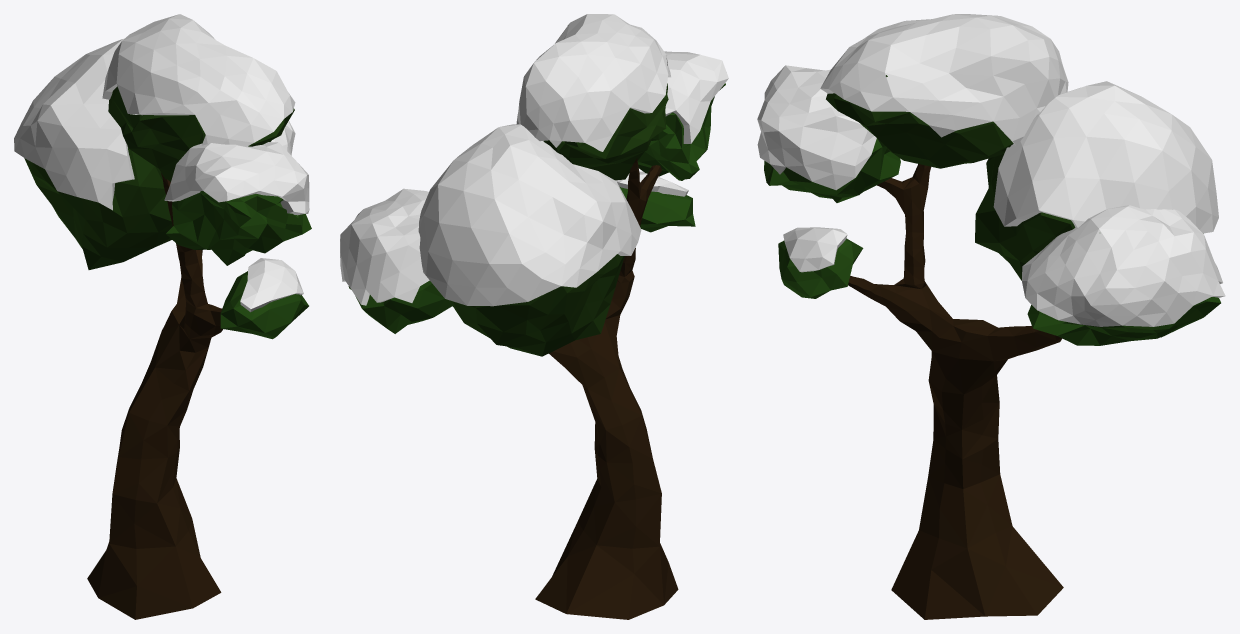
The model's file is common_tree_2_snow.glb.
The picture shows the model from 3 angles, left to right: view 1: azimuth 30°, elevation 25°; view 2: azimuth 150°, elevation 25°; view 3: azimuth 270°, elevation 25°; orthographic projection. The views are drawn at different scales.
Visible parts, largest first — view 1: common_tree_2_snow_snow, common_tree_2_snow_trunk, common_tree_2_snow_leaves_dark, common_tree_2_snow_leaves; view 2: common_tree_2_snow_snow, common_tree_2_snow_trunk, common_tree_2_snow_leaves_dark, common_tree_2_snow_leaves; view 3: common_tree_2_snow_snow, common_tree_2_snow_trunk, common_tree_2_snow_leaves_dark, common_tree_2_snow_leaves.
Part boxes in pixels (left/top/right/bottom): common_tree_2_snow_snow: left=14, top=14, right=309, bottom=312; common_tree_2_snow_trunk: left=87, top=173, right=223, bottom=619; common_tree_2_snow_leaves_dark: left=24, top=86, right=294, bottom=269; common_tree_2_snow_leaves: left=166, top=191, right=311, bottom=339; common_tree_2_snow_snow: left=340, top=14, right=728, bottom=306; common_tree_2_snow_trunk: left=535, top=158, right=678, bottom=619; common_tree_2_snow_leaves_dark: left=447, top=83, right=668, bottom=356; common_tree_2_snow_leaves: left=348, top=83, right=725, bottom=333; common_tree_2_snow_snow: left=757, top=14, right=1225, bottom=326; common_tree_2_snow_trunk: left=848, top=164, right=1063, bottom=619; common_tree_2_snow_leaves_dark: left=826, top=75, right=1203, bottom=280; common_tree_2_snow_leaves: left=764, top=138, right=1220, bottom=345.
Bounding box in the file's own units: 2.59 × 5.36 × 3.81.
